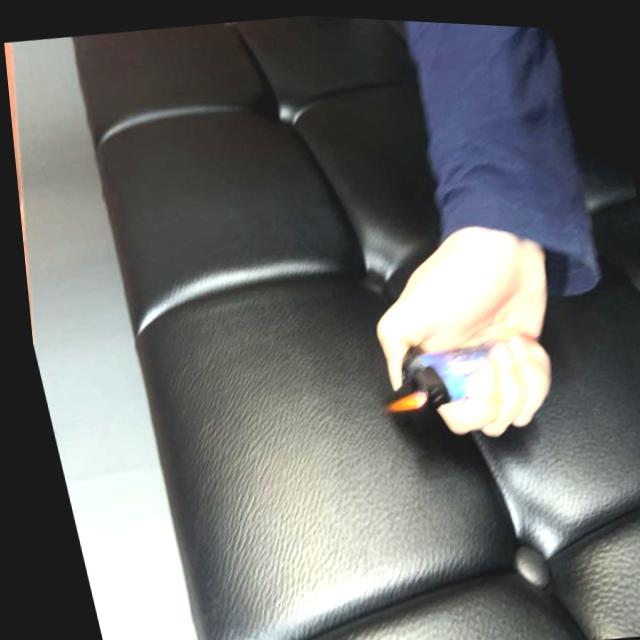helmet: (375, 383, 422, 410)
